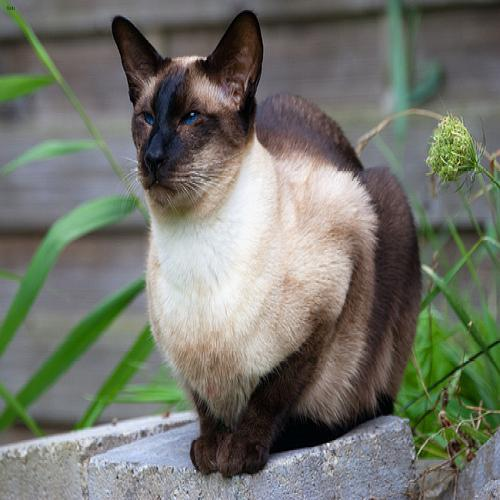siamese: (111, 2, 270, 227)
